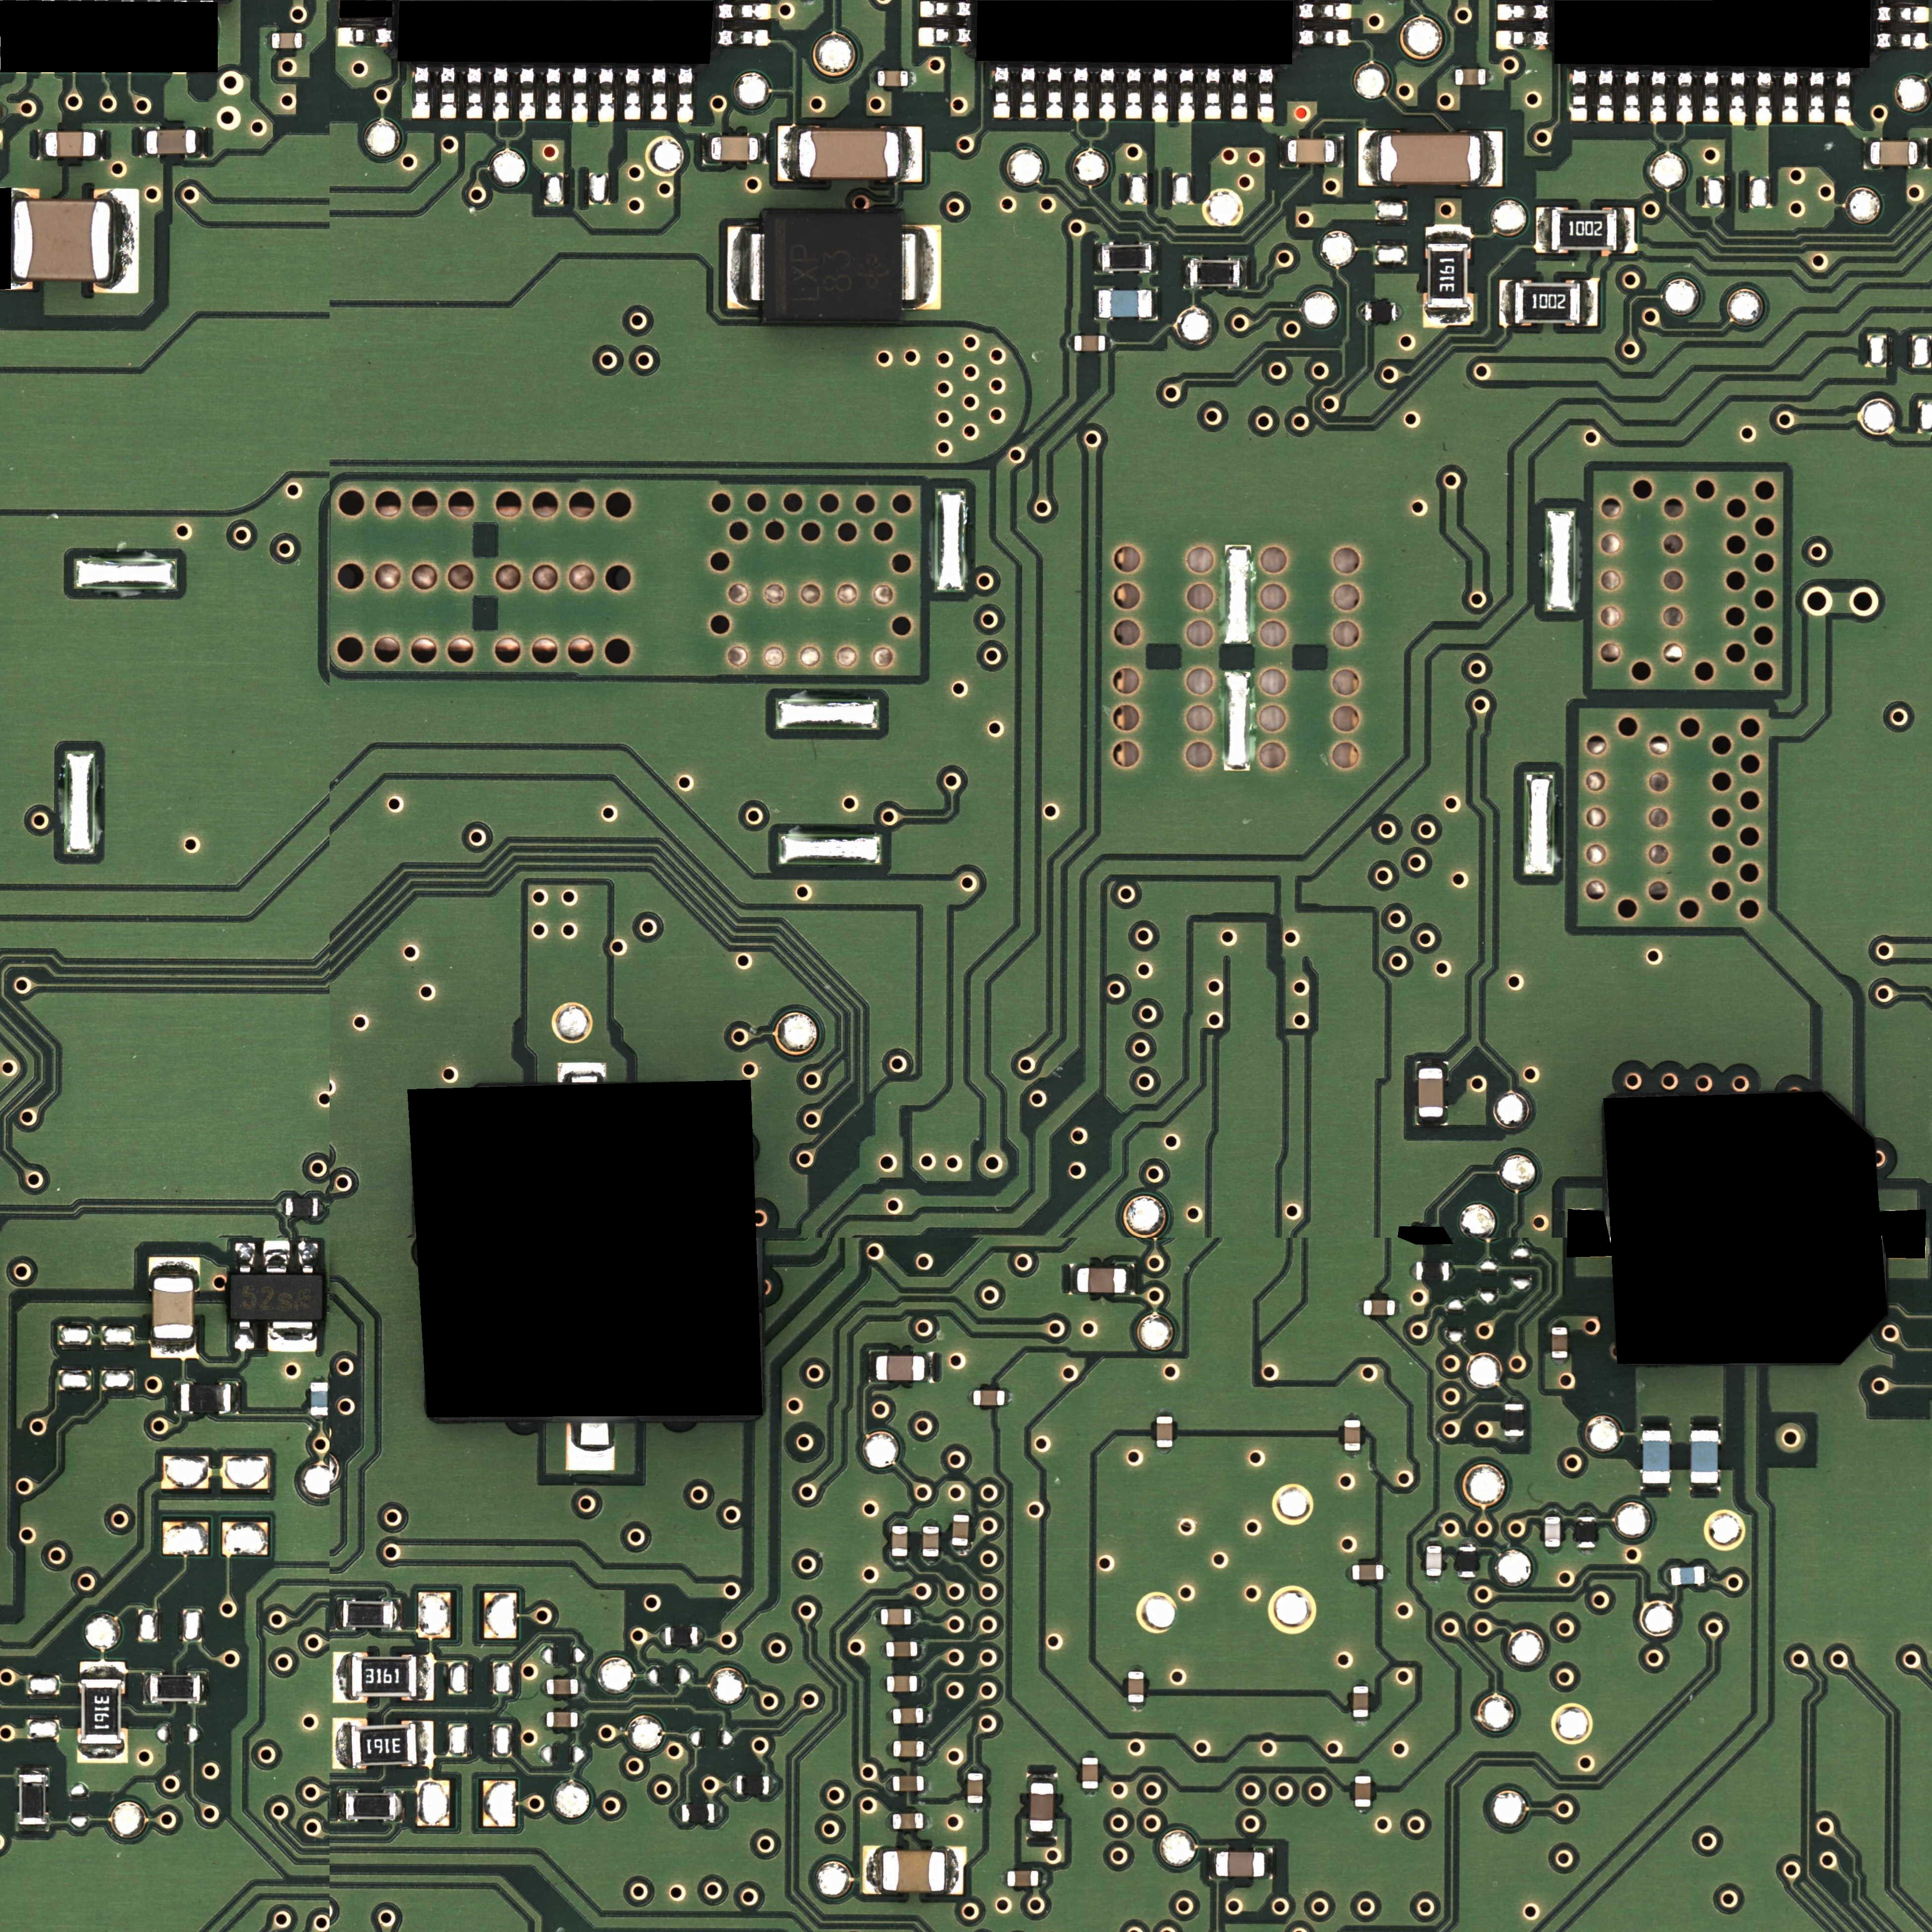Package: (765, 213, 901, 322), (13, 199, 111, 279), (799, 129, 900, 179), (1381, 134, 1480, 183), (229, 1274, 324, 1321), (80, 1680, 122, 1744), (1552, 209, 1617, 250), (351, 1725, 417, 1766), (1515, 283, 1580, 323), (1427, 243, 1468, 308), (351, 1656, 417, 1696), (152, 1278, 193, 1338), (882, 1851, 945, 1891), (1099, 290, 1152, 317), (1691, 1430, 1718, 1483), (180, 1384, 231, 1412), (1642, 1430, 1670, 1483), (150, 1676, 200, 1702), (46, 132, 96, 157), (343, 1601, 393, 1627), (20, 1775, 46, 1824), (1190, 260, 1240, 286), (346, 1794, 396, 1819), (1077, 1268, 1126, 1293), (1102, 245, 1151, 271), (1216, 1852, 1265, 1877), (1418, 1068, 1444, 1117), (146, 130, 195, 154), (876, 1355, 924, 1381), (1030, 1783, 1054, 1832), (711, 137, 758, 161), (1871, 141, 1918, 165), (1288, 140, 1335, 163), (285, 1197, 319, 1217), (736, 1776, 770, 1795), (681, 1804, 715, 1823), (1504, 1404, 1524, 1436), (665, 1627, 698, 1645), (1671, 1567, 1705, 1585), (310, 1382, 328, 1416), (1458, 1546, 1477, 1578), (1416, 1262, 1449, 1280), (1578, 1516, 1596, 1548), (1365, 303, 1397, 321), (1007, 1870, 1039, 1886), (952, 1515, 969, 1546), (1128, 1672, 1144, 1703), (547, 1679, 579, 1694), (881, 1609, 912, 1625), (1455, 69, 1486, 85), (1344, 1420, 1360, 1451), (1354, 1776, 1371, 1807), (1552, 1327, 1568, 1358), (547, 1712, 578, 1728), (1364, 1300, 1395, 1315), (1157, 1416, 1172, 1448), (1082, 1758, 1098, 1789), (922, 1526, 939, 1556), (893, 1708, 923, 1724), (893, 1740, 923, 1757), (887, 1676, 917, 1692), (272, 33, 302, 48), (892, 1526, 908, 1556), (893, 1776, 923, 1791), (886, 1642, 917, 1657), (892, 1813, 923, 1829), (1074, 336, 1105, 351), (1352, 1564, 1383, 1580), (967, 1773, 983, 1803), (973, 1390, 1005, 1405), (1353, 1687, 1368, 1718), (877, 70, 908, 86), (1545, 1517, 1561, 1547), (1426, 1546, 1442, 1576)
Solder: (902, 225, 941, 310), (727, 226, 764, 308), (112, 188, 139, 293), (567, 1423, 614, 1470), (268, 1321, 317, 1352), (1481, 131, 1502, 188), (1358, 130, 1379, 187), (900, 127, 921, 182), (777, 126, 798, 182), (338, 27, 395, 46), (148, 1257, 200, 1277), (918, 27, 972, 46), (1497, 30, 1549, 48), (77, 1744, 128, 1763), (571, 66, 589, 122), (558, 1062, 606, 1082), (863, 1845, 882, 1894), (676, 67, 693, 122), (597, 66, 615, 121), (413, 66, 431, 118), (946, 1846, 965, 1895), (439, 66, 456, 118), (465, 65, 483, 118), (491, 65, 509, 118), (545, 67, 562, 119), (519, 67, 536, 119), (649, 67, 667, 120), (624, 67, 641, 119), (333, 1652, 351, 1703), (150, 1339, 197, 1358), (920, 0, 972, 17), (1497, 3, 1550, 20), (334, 1718, 350, 1769), (994, 65, 1010, 118), (1020, 65, 1036, 118), (1878, 6, 1930, 22), (1099, 67, 1115, 119), (1125, 67, 1142, 119), (263, 1241, 290, 1273), (1257, 68, 1273, 121), (1730, 69, 1745, 125), (1047, 66, 1063, 118), (1073, 66, 1089, 118), (1703, 68, 1719, 122), (1783, 68, 1798, 122), (1809, 69, 1825, 123), (1426, 309, 1473, 326), (719, 3, 771, 19), (718, 30, 770, 46), (1205, 68, 1221, 120), (1231, 68, 1247, 120), (1572, 68, 1587, 121), (1650, 69, 1666, 122), (1678, 68, 1693, 122), (1756, 69, 1771, 124), (1152, 68, 1167, 121), (1598, 68, 1613, 122), (1625, 68, 1640, 122), (1618, 207, 1635, 253), (1426, 226, 1472, 243), (1178, 68, 1193, 121), (1835, 69, 1850, 123), (1581, 279, 1598, 326), (1299, 4, 1352, 19), (417, 1654, 434, 1700), (80, 1662, 126, 1679), (417, 1721, 434, 1767), (1878, 34, 1928, 48), (1299, 31, 1350, 45), (1499, 280, 1514, 327), (1536, 207, 1550, 253), (298, 1243, 318, 1274), (234, 1321, 255, 1351), (236, 1243, 255, 1273), (1918, 138, 1929, 169), (1026, 1772, 1058, 1782), (758, 133, 768, 164), (1415, 1117, 1448, 1126), (1126, 1264, 1136, 1295), (1335, 136, 1344, 167), (1416, 1060, 1448, 1068), (1240, 257, 1249, 288), (1026, 1831, 1057, 1840), (231, 1382, 240, 1414), (16, 1825, 48, 1834), (1265, 1848, 1274, 1879), (1690, 1484, 1720, 1493), (1068, 1264, 1077, 1294), (1207, 1848, 1216, 1878), (1641, 1484, 1671, 1493), (1280, 136, 1288, 167), (1152, 288, 1160, 319), (338, 1789, 346, 1822), (702, 134, 711, 164), (1641, 1422, 1672, 1430), (1152, 241, 1159, 273), (393, 1598, 401, 1630), (925, 1352, 933, 1383), (869, 1351, 876, 1382), (1182, 257, 1190, 288), (1863, 138, 1871, 169), (1690, 1422, 1721, 1430), (395, 1791, 403, 1821), (1094, 242, 1102, 273), (143, 1673, 150, 1703), (18, 1766, 48, 1774), (336, 1598, 342, 1630), (200, 1672, 207, 1704), (39, 129, 45, 160), (196, 127, 202, 157), (96, 129, 102, 160), (174, 1382, 180, 1413), (1093, 289, 1099, 318), (263, 31, 271, 50), (1577, 1508, 1596, 1516), (141, 127, 146, 157), (715, 1803, 723, 1823), (1545, 1507, 1561, 1516), (302, 31, 310, 49), (674, 1804, 682, 1822), (1504, 1437, 1525, 1444), (1005, 1389, 1013, 1405), (770, 1776, 777, 1794), (1449, 1261, 1456, 1280), (1486, 68, 1494, 85), (1397, 303, 1404, 321), (1409, 1261, 1416, 1280), (922, 1519, 939, 1527), (873, 1608, 881, 1625), (952, 1546, 969, 1553), (1354, 1807, 1371, 1815), (1704, 1565, 1711, 1586), (892, 1518, 908, 1526), (1355, 1768, 1371, 1776), (891, 1556, 908, 1564), (1344, 1451, 1361, 1458), (1550, 1358, 1569, 1365), (1384, 1565, 1392, 1581), (1426, 1576, 1442, 1584), (1426, 1538, 1442, 1546), (886, 1740, 893, 1757), (967, 1803, 982, 1811), (1156, 1409, 1173, 1417), (1128, 1703, 1145, 1710), (1352, 1718, 1369, 1725), (1505, 1397, 1524, 1403), (1577, 1547, 1596, 1554), (729, 1776, 736, 1794), (698, 1627, 705, 1645), (1358, 303, 1365, 321), (908, 71, 916, 86), (967, 1765, 983, 1773), (1344, 1413, 1360, 1420), (311, 1375, 328, 1382), (1000, 1870, 1007, 1887), (1067, 335, 1075, 351), (918, 1675, 924, 1692), (922, 1557, 939, 1564), (1346, 1564, 1352, 1581), (1039, 1870, 1046, 1886), (1458, 1540, 1476, 1546), (879, 1676, 886, 1691), (885, 1708, 893, 1724), (870, 70, 877, 86), (953, 1508, 969, 1515), (923, 1813, 930, 1829), (1105, 335, 1112, 351), (1356, 1299, 1363, 1315), (966, 1389, 973, 1405), (1082, 1751, 1098, 1758), (1449, 68, 1455, 85), (1664, 1568, 1671, 1585), (1128, 1665, 1144, 1672), (1157, 1448, 1172, 1454), (658, 1628, 665, 1644), (912, 1608, 918, 1625), (1395, 1299, 1401, 1315), (280, 1198, 286, 1215), (1458, 1577, 1475, 1583), (923, 1708, 930, 1724), (924, 1776, 930, 1791), (540, 1679, 547, 1695), (1552, 1320, 1568, 1326), (1082, 1789, 1099, 1795), (879, 1642, 886, 1657), (579, 1712, 585, 1728), (540, 1712, 546, 1727), (1353, 1680, 1368, 1686), (318, 1199, 324, 1216), (887, 1813, 893, 1830), (1545, 1547, 1561, 1553), (311, 1416, 327, 1421), (924, 1740, 930, 1757), (918, 1642, 923, 1657), (579, 1680, 584, 1694), (887, 1776, 892, 1792)
